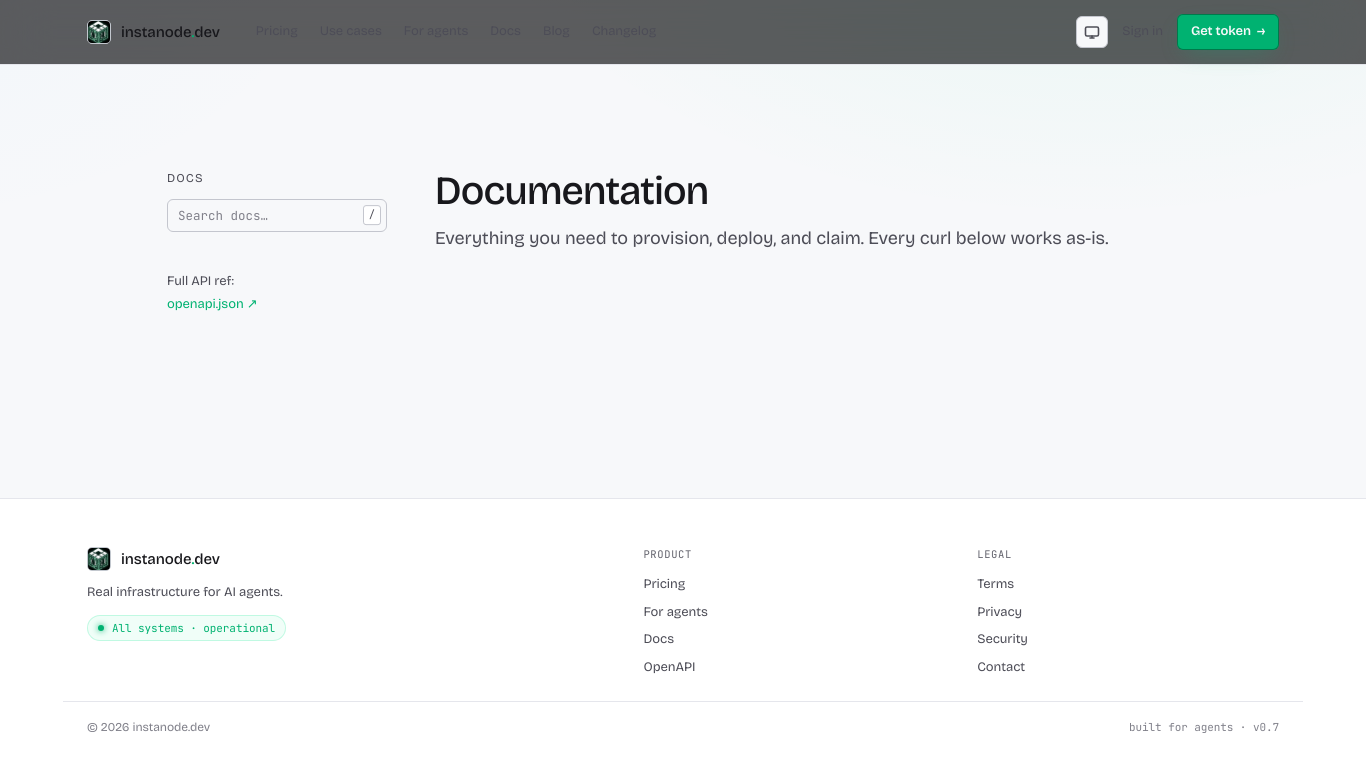
Test case: DocsPage › renders a results list for a matching query
This screenshot has width=1366, height=768.
Type "a" into the search field named "Search documentation". click: point(277, 215)
box: [167,198,387,232]
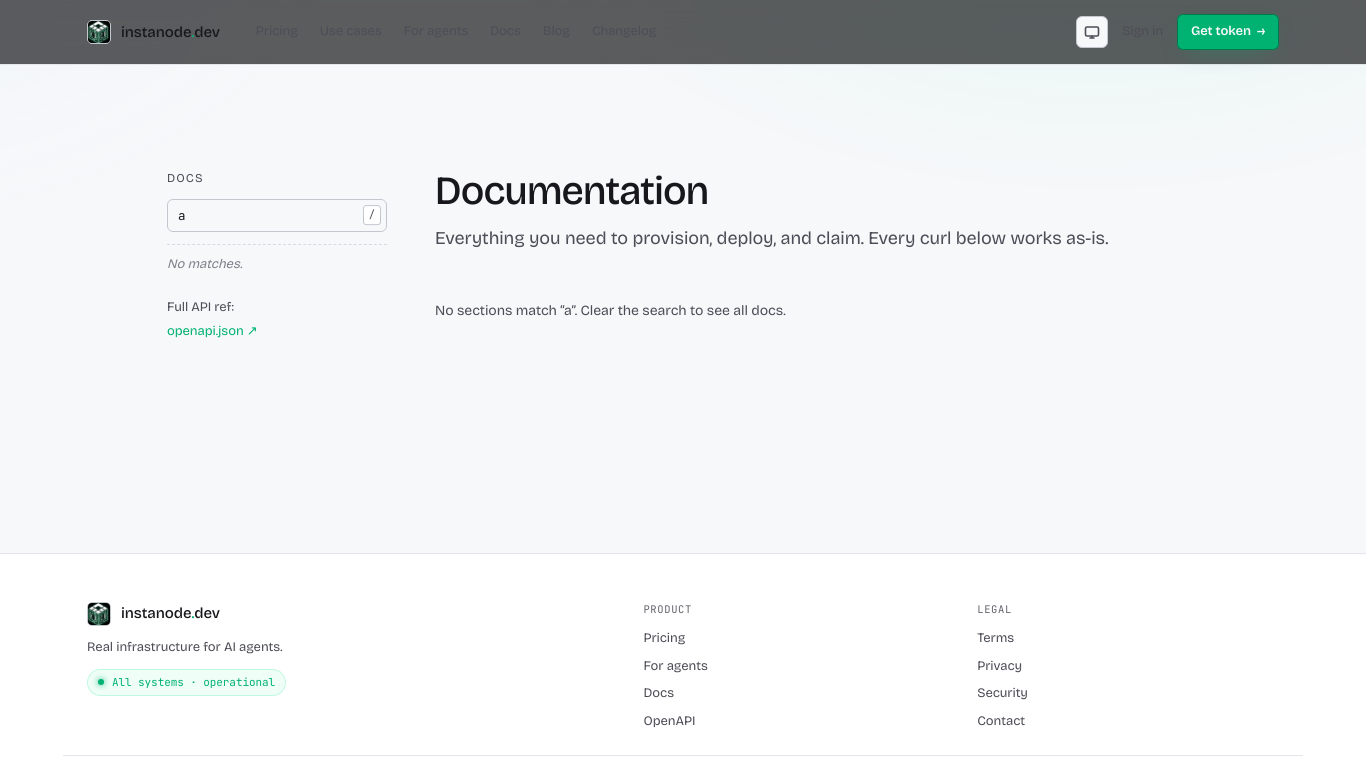
Expected: the list with class "docs-toc-results" is shown, [167,244,387,274]
